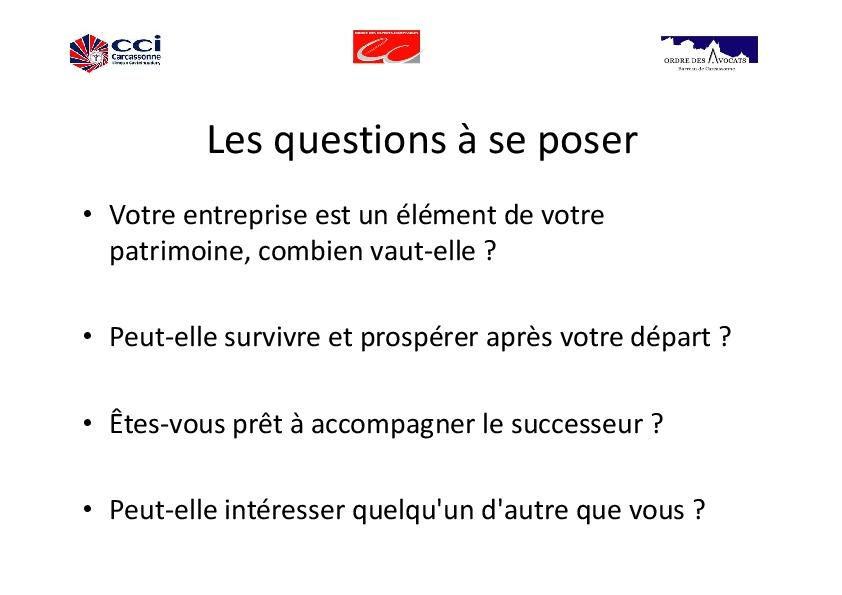paragraph: (71, 188, 756, 551)
title: (201, 96, 651, 183)
